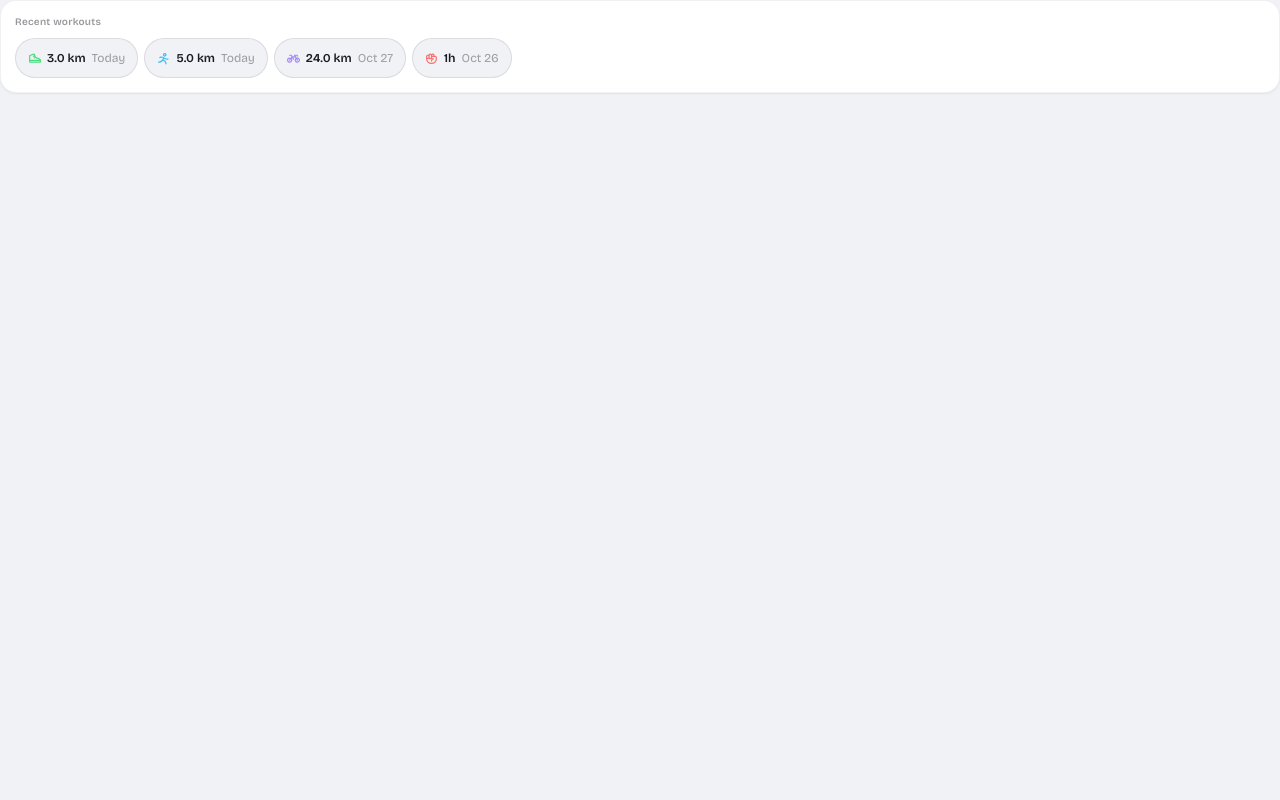
it: RecentWorkouts › can cancel the delete confirmation
Click the button labelled "1h Oct 26". click: [462, 58]
box: [412,38,512,78]
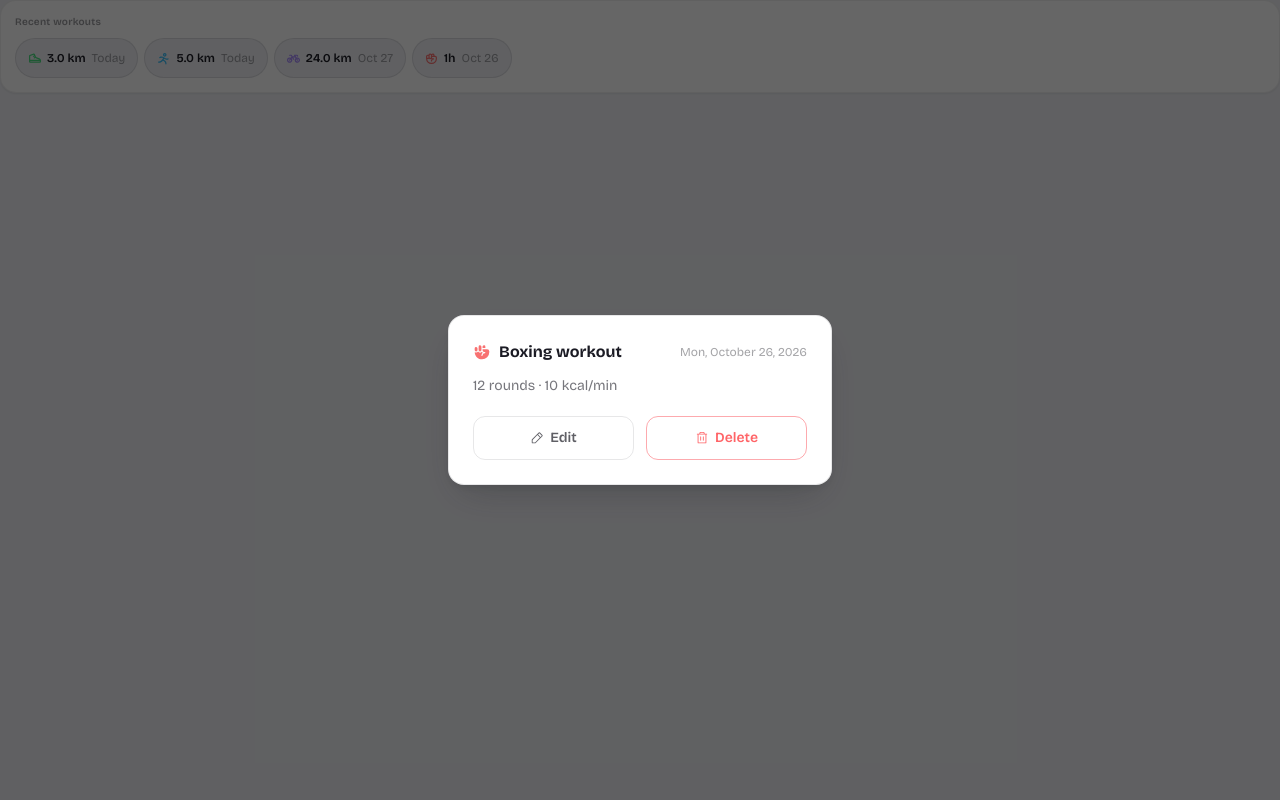
Click the button "Delete". click: [726, 438]
box: [646,416,807,460]
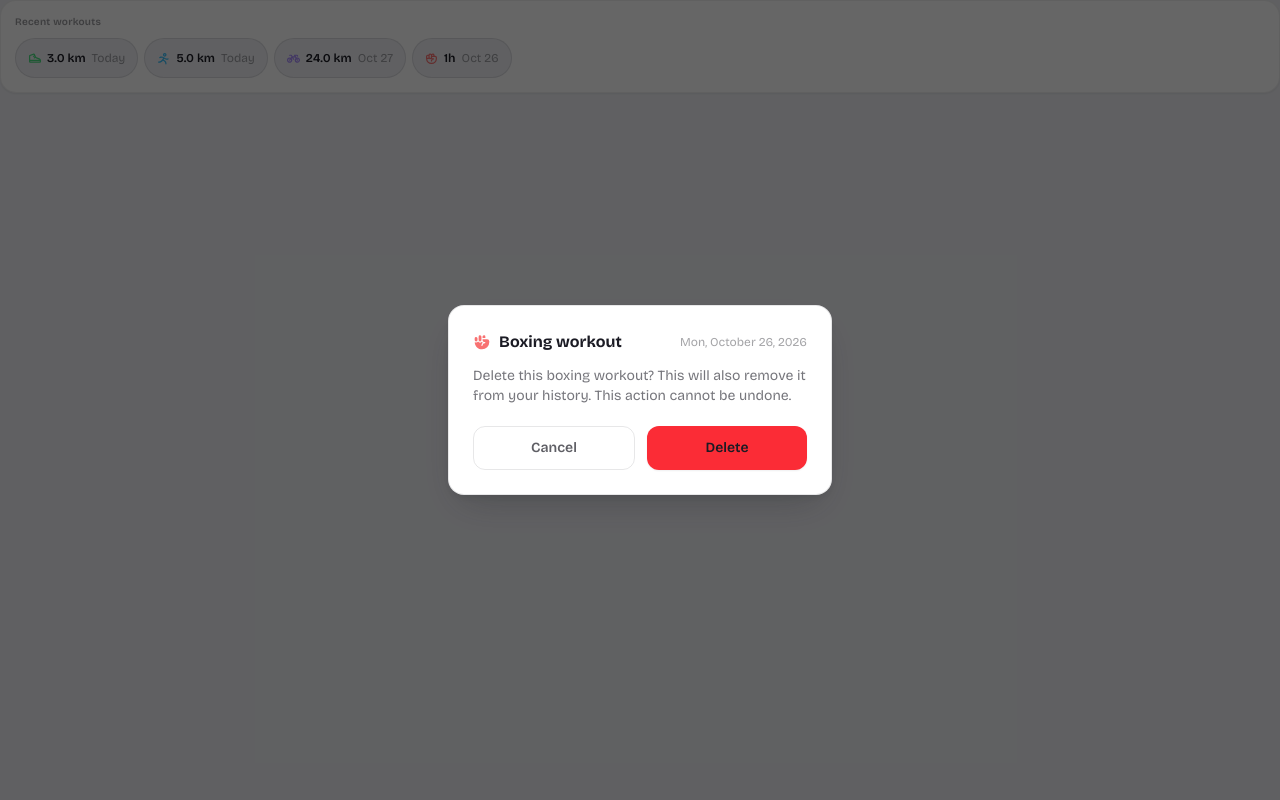
Click the button "Cancel". click: [554, 448]
box: [473,426,635,470]
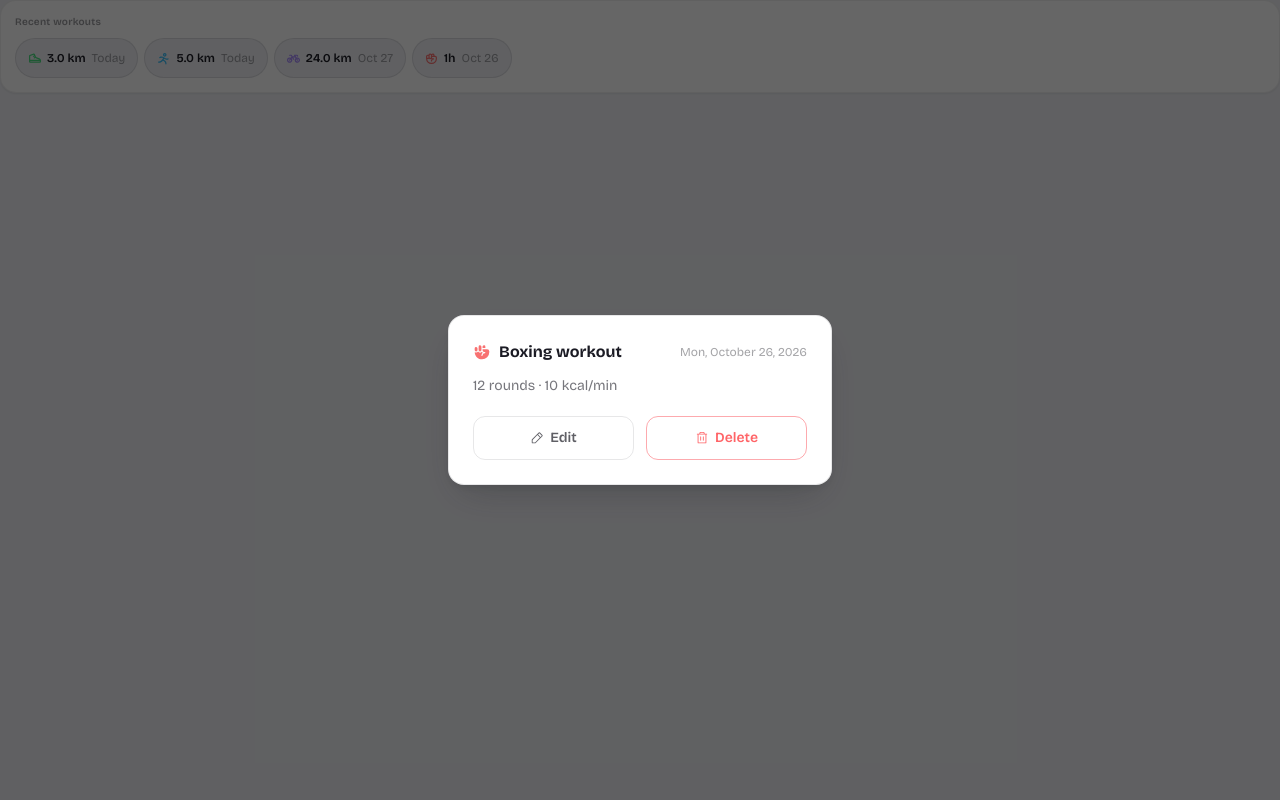
Expected: the button "Edit" is shown, [473,416,634,460]
